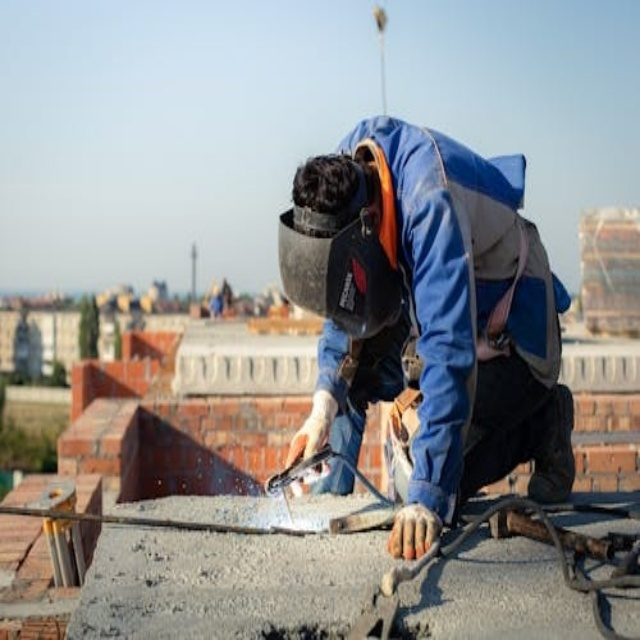Guantes: (287, 389, 337, 471), (387, 500, 446, 560)
